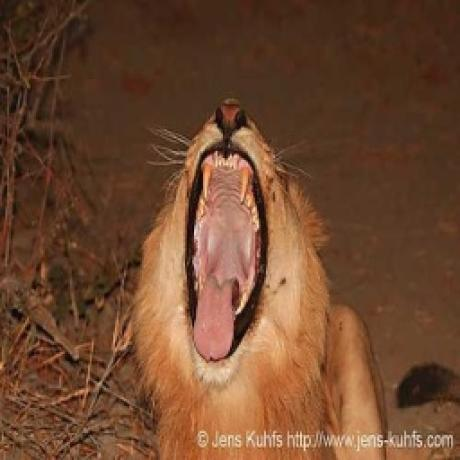Lion: (129, 91, 386, 460)
